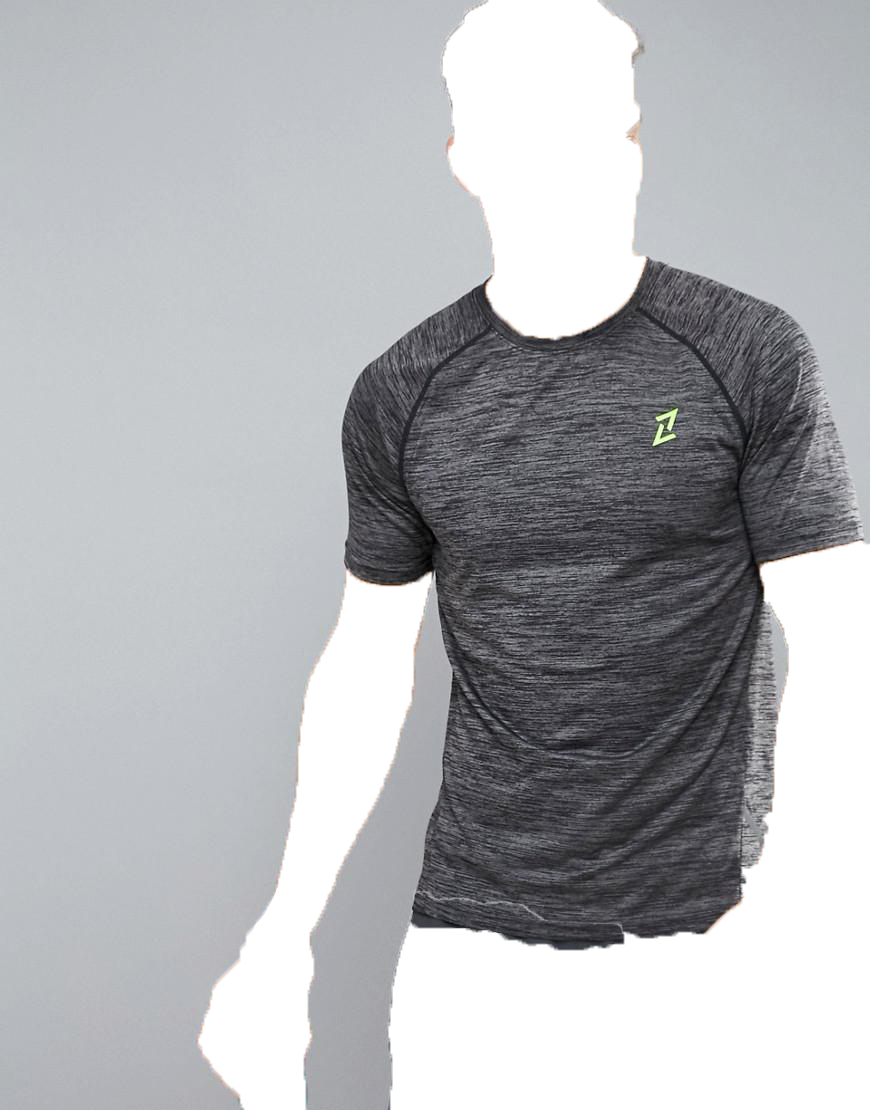teeshirt: (334, 256, 868, 979)
